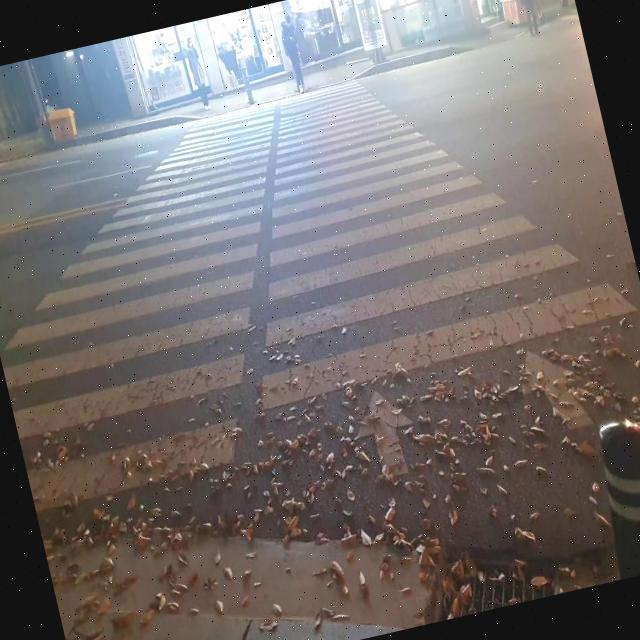crosswalk: (0, 75, 640, 545)
